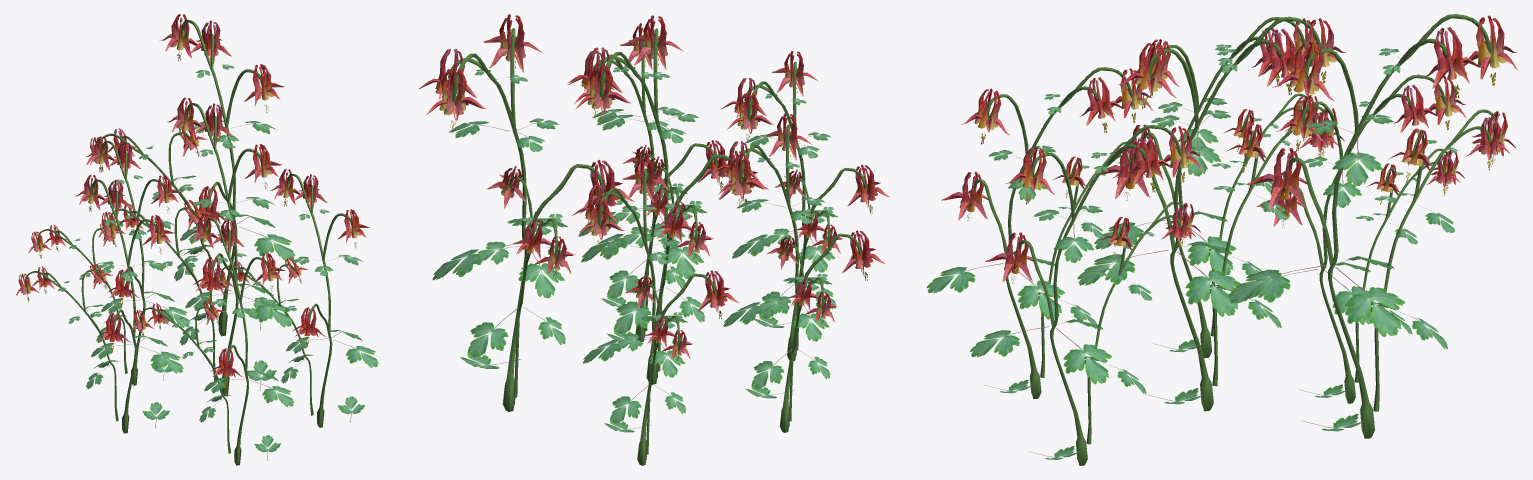
The model's file is columbine.glb.
3 views of the same model, side by side, from view 1: azimuth 30°, elevation 25°; view 2: azimuth 150°, elevation 25°; view 3: azimuth 270°, elevation 25° (orthographic). The views are drawn at different scales.
Size of the model in its own units: 0.5006 by 0.5218 by 0.6223.
3 materials, 2 textured.
